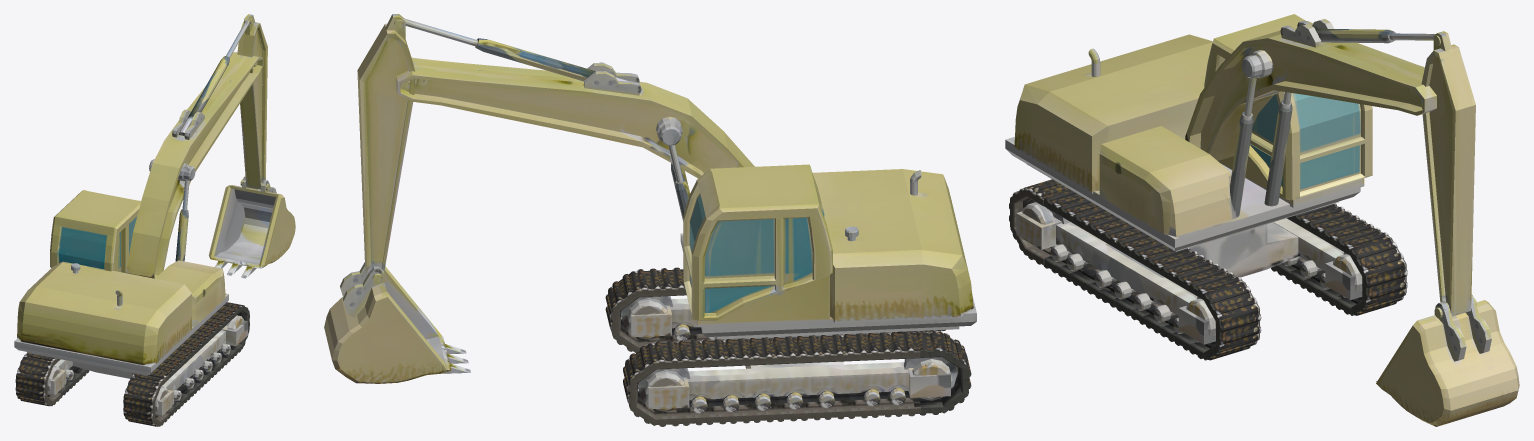
3 views of the same model, side by side, from view 1: azimuth 30°, elevation 25°; view 2: azimuth 150°, elevation 25°; view 3: azimuth 270°, elevation 25° (orthographic). The views are drawn at different scales.
Visible parts, largest first — view 1: mvadapter_node_0095_cce39de2c1354b2d87a6f70f358a8f3c; view 2: mvadapter_node_0095_cce39de2c1354b2d87a6f70f358a8f3c; view 3: mvadapter_node_0095_cce39de2c1354b2d87a6f70f358a8f3c.
Part boxes in pixels (x1,y1,x2,y2): mvadapter_node_0095_cce39de2c1354b2d87a6f70f358a8f3c: [14, 14, 295, 426]; mvadapter_node_0095_cce39de2c1354b2d87a6f70f358a8f3c: [324, 14, 976, 426]; mvadapter_node_0095_cce39de2c1354b2d87a6f70f358a8f3c: [1005, 14, 1519, 426].
Size of the model in its own units: 1 by 0.673 by 0.7995.
1 material, 1 textured.
